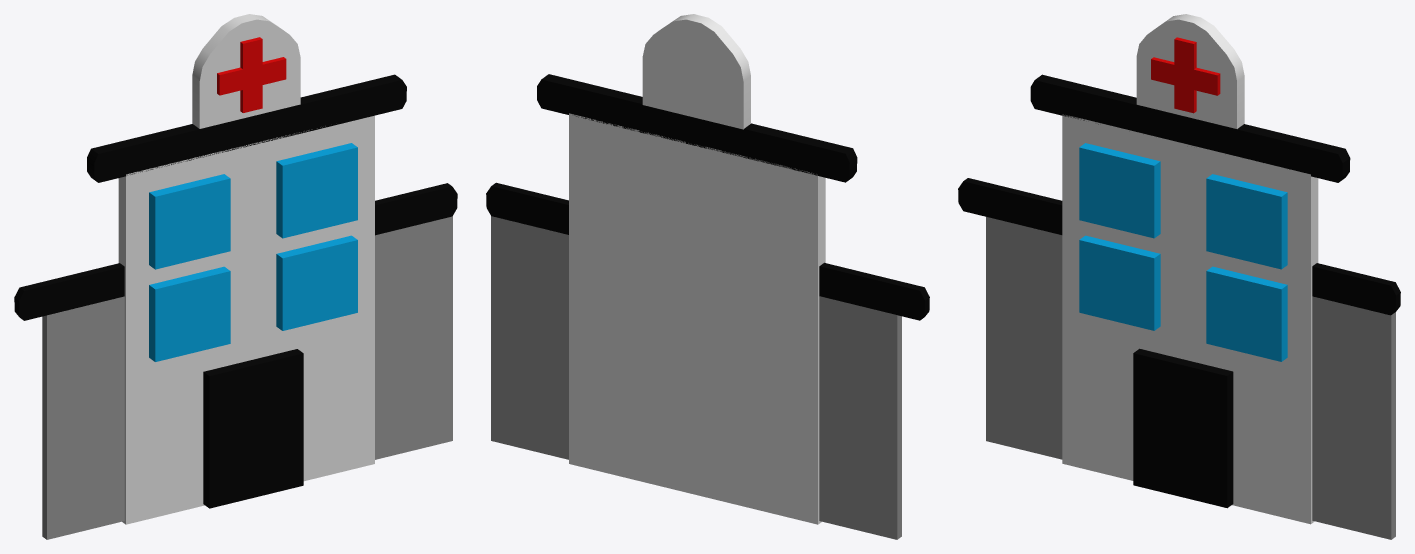
File: hospital icon.fbx
3 views of the same model, side by side, from view 1: azimuth 30°, elevation 25°; view 2: azimuth 150°, elevation 25°; view 3: azimuth 330°, elevation 25° (orthographic).
Visible parts, largest first — view 1: pCube1, pCube4, pCube12, pCube7, pCube2, pCube6, pCube8, pCube10, pCube11, pCube9, pCube5, pCube13 (+1 smaller); view 2: pCube1, pCube4, pCube12, pCube2, pCube6, pCube5, pCube13; view 3: pCube1, pCube12, pCube4, pCube7, pCube2, pCube6, pCube9, pCube11, pCube10, pCube8, pCube5, pCube13 (+1 smaller).
Part boxes in pixels (x1=…): pCube1: x1=118, y1=115, x2=374, y2=524; pCube4: x1=42, y1=296, x2=124, y2=539; pCube12: x1=375, y1=216, x2=452, y2=459; pCube7: x1=203, y1=349, x2=303, y2=508; pCube2: x1=87, y1=74, x2=406, y2=182; pCube6: x1=192, y1=14, x2=300, y2=128; pCube8: x1=149, y1=174, x2=230, y2=269; pCube10: x1=276, y1=235, x2=357, y2=330; pCube11: x1=149, y1=266, x2=230, y2=361; pCube9: x1=276, y1=143, x2=357, y2=238; pCube5: x1=14, y1=263, x2=124, y2=320; pCube13: x1=375, y1=183, x2=457, y2=235; pCube1: x1=569, y1=113, x2=825, y2=524; pCube4: x1=819, y1=296, x2=901, y2=539; pCube12: x1=491, y1=216, x2=568, y2=459; pCube2: x1=537, y1=74, x2=857, y2=182; pCube6: x1=642, y1=14, x2=750, y2=129; pCube5: x1=819, y1=262, x2=929, y2=320; pCube13: x1=486, y1=182, x2=568, y2=234; pCube1: x1=1062, y1=114, x2=1318, y2=524; pCube12: x1=1312, y1=296, x2=1395, y2=539; pCube4: x1=986, y1=216, x2=1062, y2=459; pCube7: x1=1133, y1=348, x2=1233, y2=508; pCube2: x1=1030, y1=74, x2=1350, y2=182; pCube6: x1=1136, y1=14, x2=1244, y2=128; pCube9: x1=1206, y1=174, x2=1287, y2=269; pCube11: x1=1079, y1=235, x2=1160, y2=330; pCube10: x1=1206, y1=266, x2=1287, y2=361; pCube8: x1=1079, y1=143, x2=1160, y2=238; pCube5: x1=958, y1=178, x2=1062, y2=234; pCube13: x1=1312, y1=263, x2=1400, y2=315.
Bounding box in the file's own units: 8.74 × 9.01 × 0.4831.
